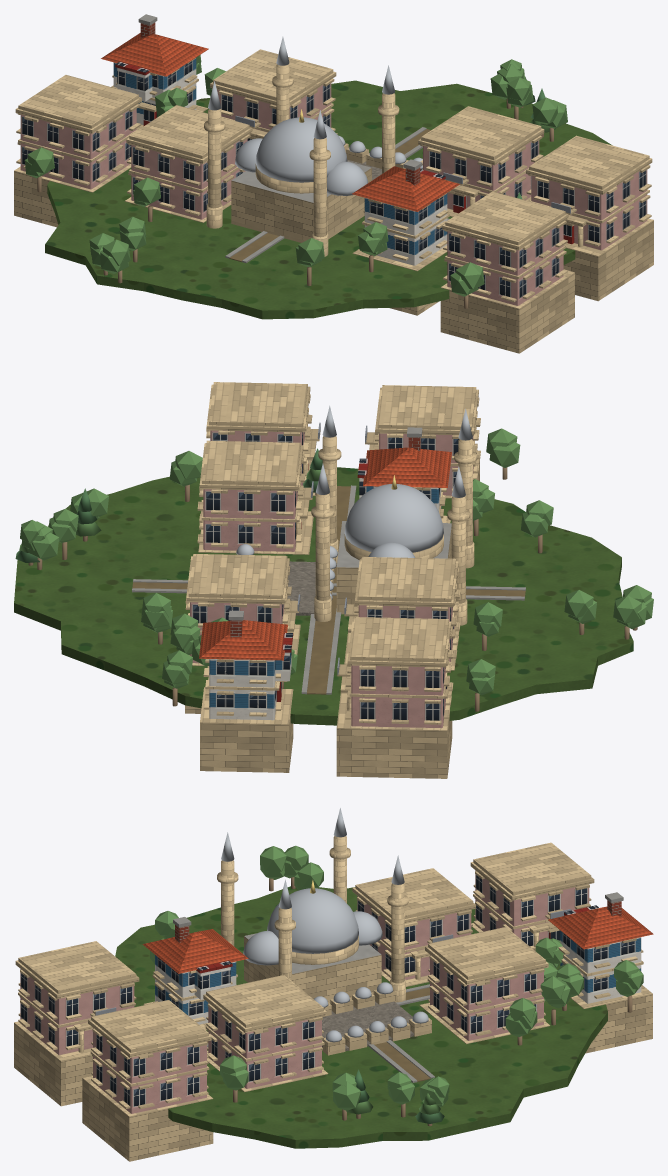
The model's file is city_orient_town.gltf.
3 renders of one model, top to bottom at view 1: azimuth 30°, elevation 25°; view 2: azimuth 150°, elevation 25°; view 3: azimuth 270°, elevation 25°, orthographic. The views are drawn at different scales.
Parts seen in each view (by area): view 1: city_orient_town; view 2: city_orient_town; view 3: city_orient_town.
Boxes of the visible parts, box(x1,y1,x2,y2) form: city_orient_town: box(14, 14, 653, 353); city_orient_town: box(14, 382, 653, 778); city_orient_town: box(14, 808, 653, 1161).
Bounding box in the file's own units: 2.02 × 0.6907 × 2.1.
Materials: 16 (10 with a texture image).
